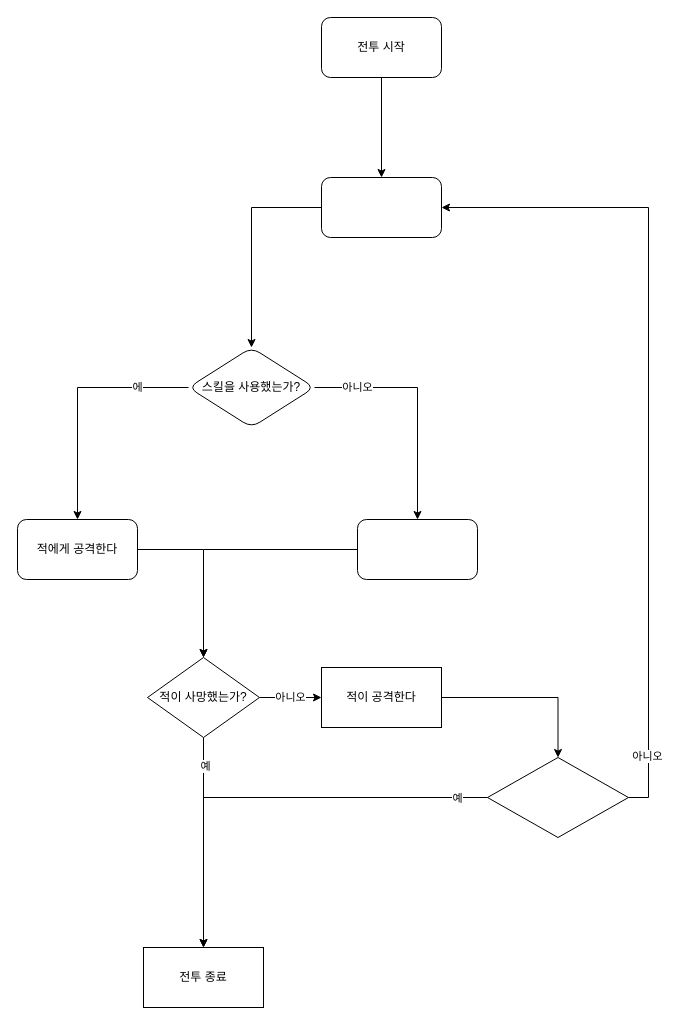
This 680x1025 diagram has some shape labels left out. The shapes that lost their labels are listed below. From the top down, each one's centre as x and y in pixels, then its label:
At point 381,207: "내가 공격한다".
At point 417,549: "아이템을 사용한다".
At point 557,797: "내가 사망했는가?".
